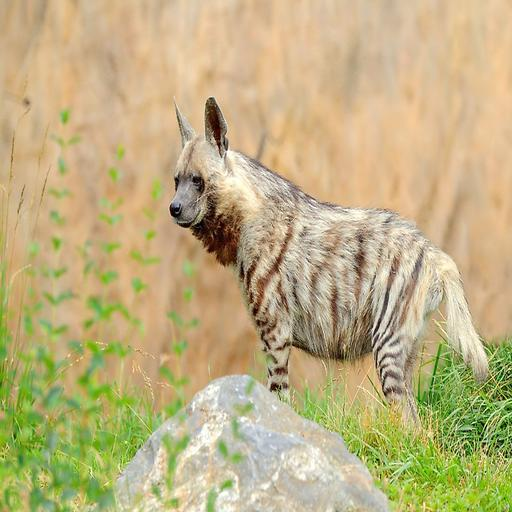hyenas: (144, 98, 496, 444)
